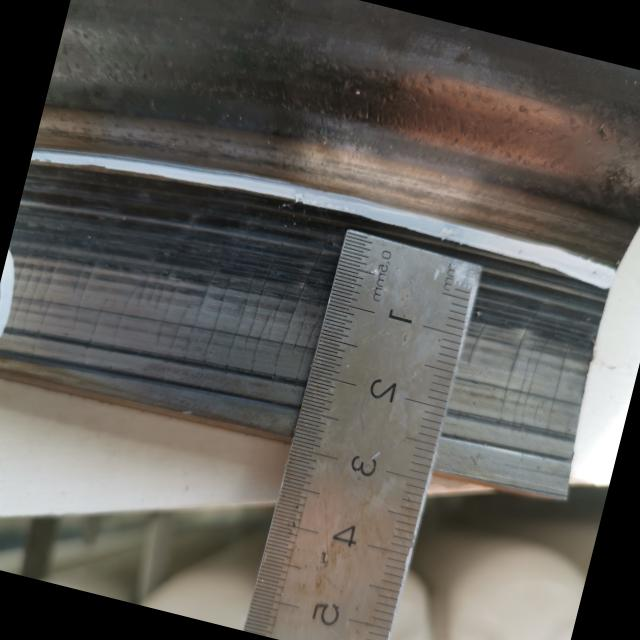Brake_Thermal_Cracks: (245, 223, 333, 388), (182, 222, 249, 363), (489, 289, 555, 431), (23, 199, 80, 359), (140, 214, 202, 353), (221, 228, 277, 366), (536, 304, 588, 446), (76, 286, 113, 372), (302, 278, 333, 365), (463, 310, 498, 375)
